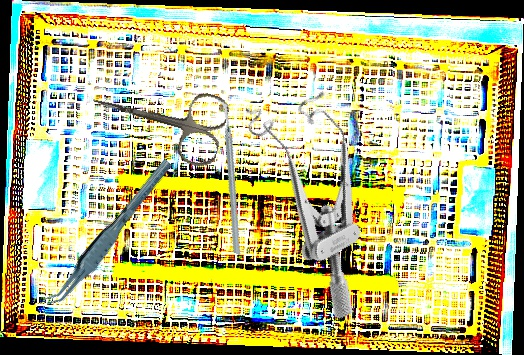Chopper: (171, 97, 286, 256)
Iris Scissors: (83, 63, 232, 171)
Speculum: (225, 71, 426, 322)
Tissue Forceps: (31, 157, 188, 311)
